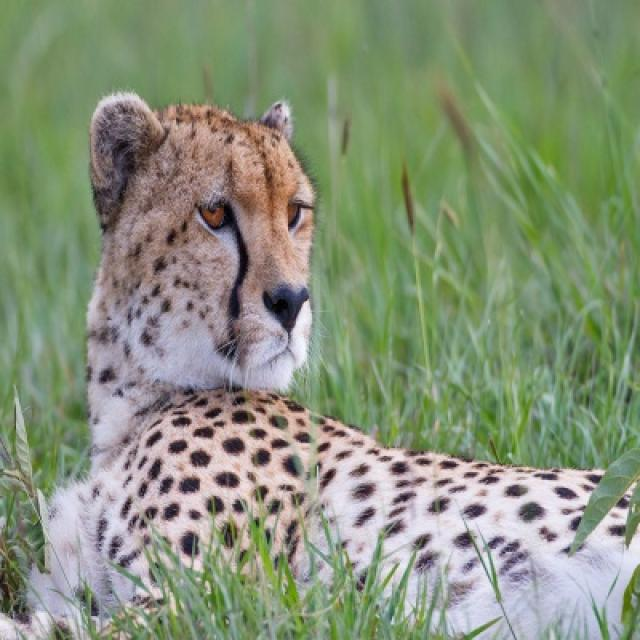Cheetah: (7, 97, 638, 638)
